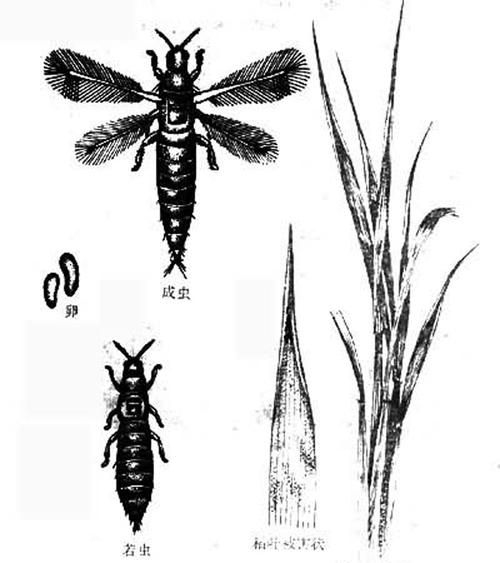Thripidae: (44, 30, 311, 269)
